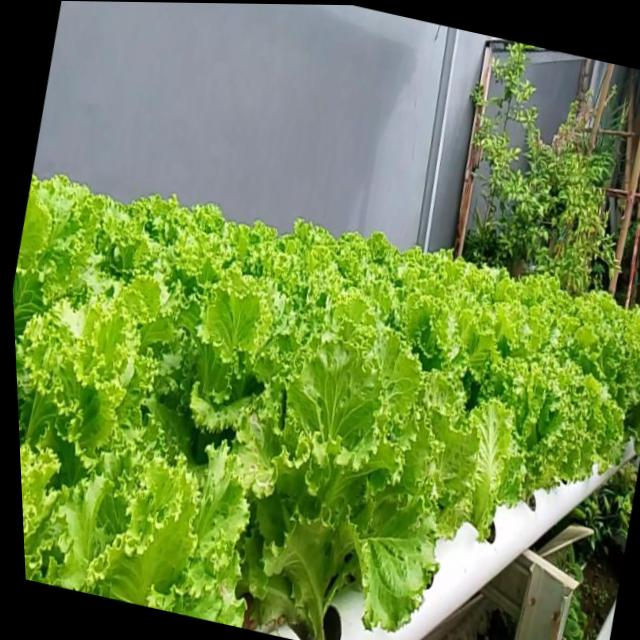Mature: (13, 157, 640, 640), (258, 334, 457, 630), (489, 309, 640, 514)
